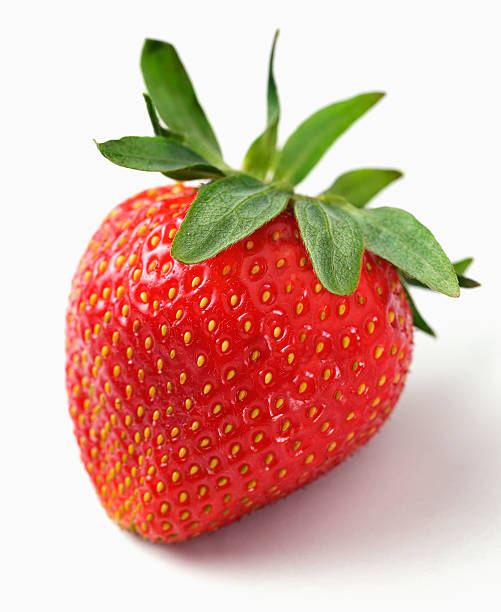Fresa: (64, 177, 419, 547)
